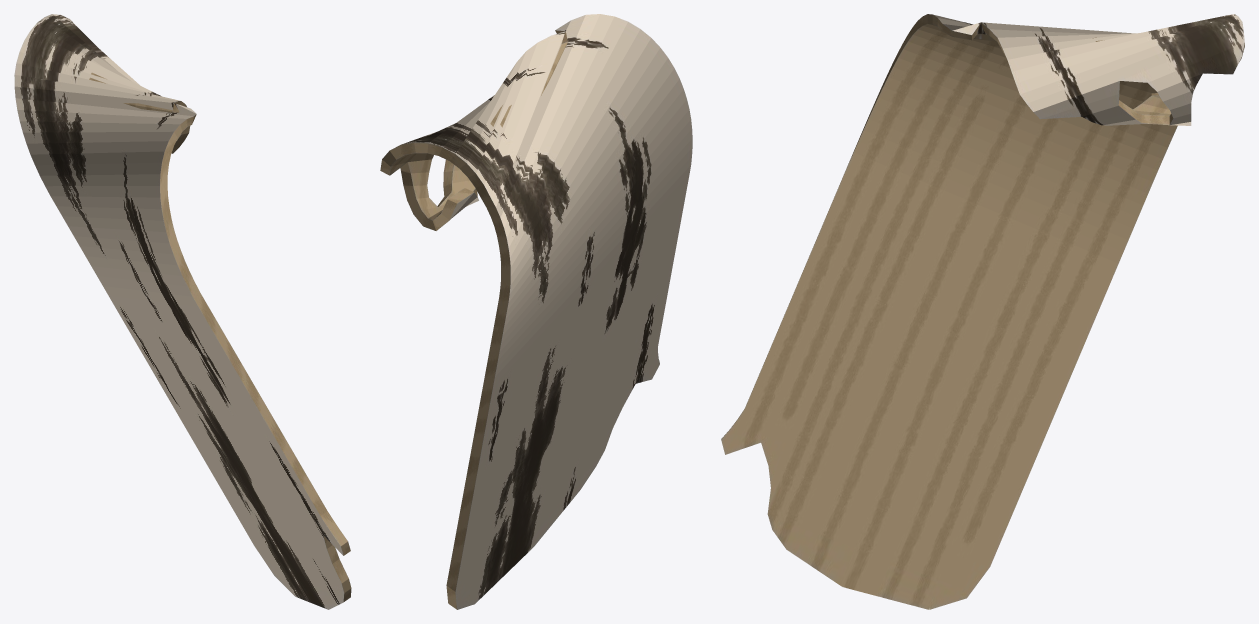
Rendered from Birch1.fbx.
3 renders of one model, left to right at view 1: azimuth 30°, elevation 25°; view 2: azimuth 150°, elevation 25°; view 3: azimuth 270°, elevation 25°, orthographic. The views are drawn at different scales.
Visible parts, largest first — view 1: Plane; view 2: Plane; view 3: Plane.
Part boxes in pixels (x1,y1,x2,y2): Plane: [14, 14, 351, 609]; Plane: [380, 14, 692, 609]; Plane: [721, 14, 1244, 609].
Size of the model in its own units: 222 by 671 by 593.
Materials: 1 (1 with a texture image).
